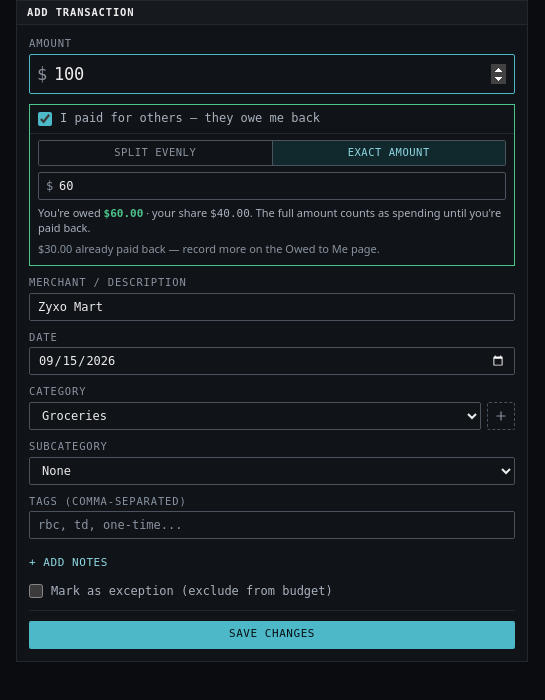
it: the owed rules › will not drop the owed amount below what has already been repaid
Replace the text in the number field with placeholder "Amount owed to you" with "20" at (272, 186), box [38,172,506,200]
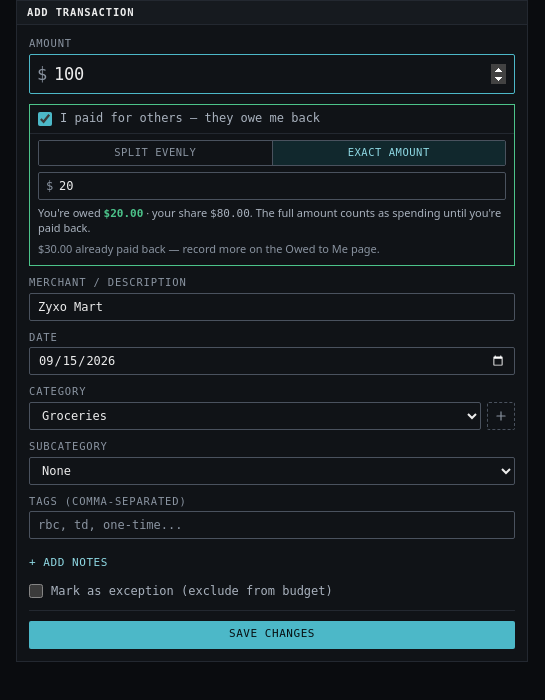
Click the button "Save Changes" at (272, 635), box [29,621,515,649]
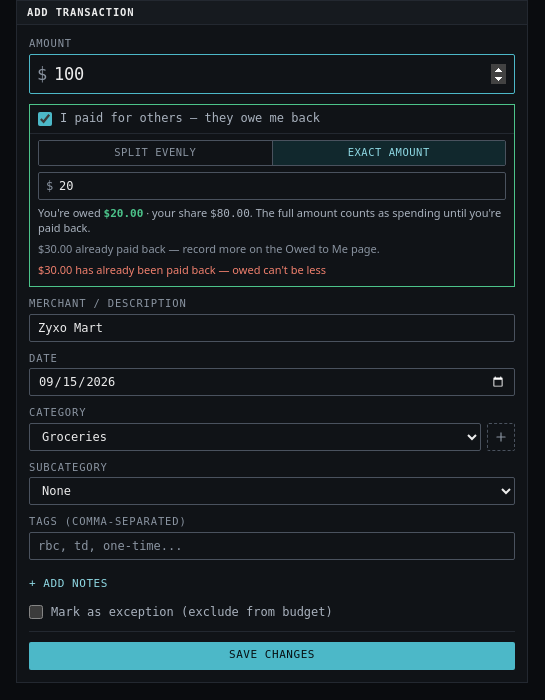
Check: the text "$30.00 has already been paid back — owed can't be less" is shown, box [38,262,326,277]
